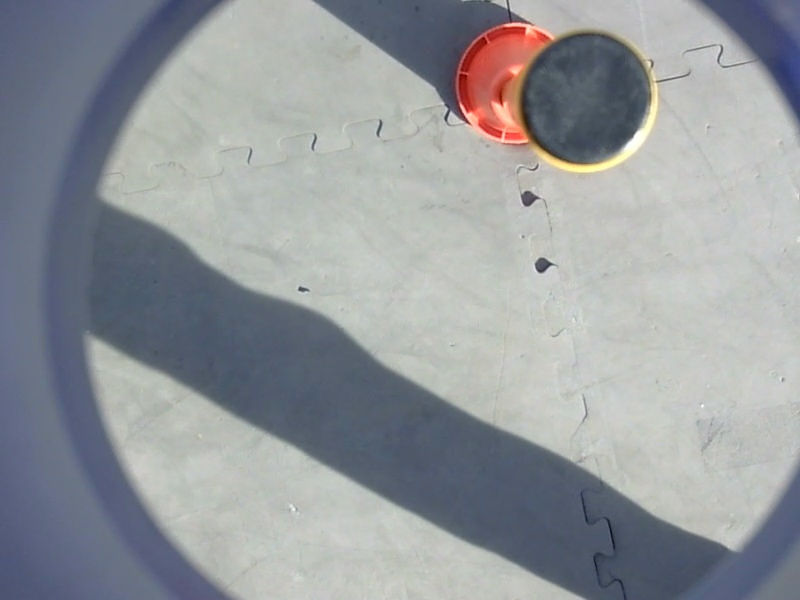tip: (507, 25, 666, 184)
